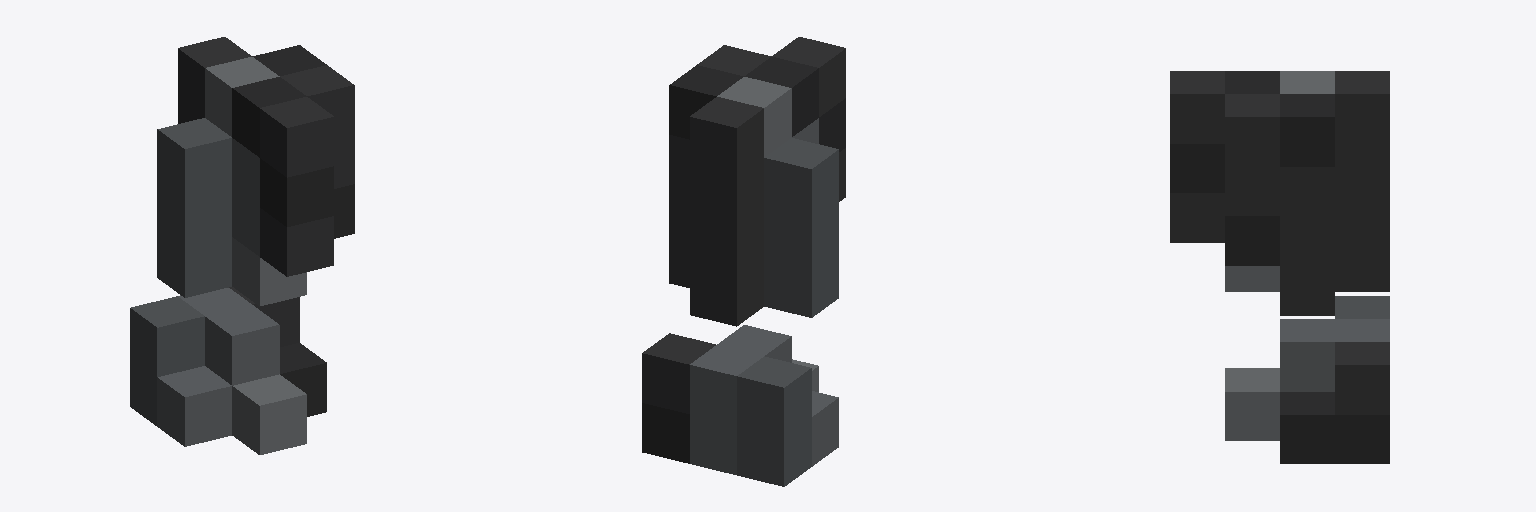
3 views of the same model, side by side, from view 1: azimuth 30°, elevation 25°; view 2: azimuth 150°, elevation 25°; view 3: azimuth 270°, elevation 25° (orthographic).
Parts seen in each view (by area): view 1: wolfneonLegLeftBack; view 2: wolfneonLegLeftBack; view 3: wolfneonLegLeftBack.
Part boxes in pixels (x1,y1,x2,y2): wolfneonLegLeftBack: (130,37,354,454); wolfneonLegLeftBack: (642,37,845,486); wolfneonLegLeftBack: (1170,71,1389,463).
Size of the model in its own units: 3 by 7 by 4.
Materials: 1 (1 with a texture image).